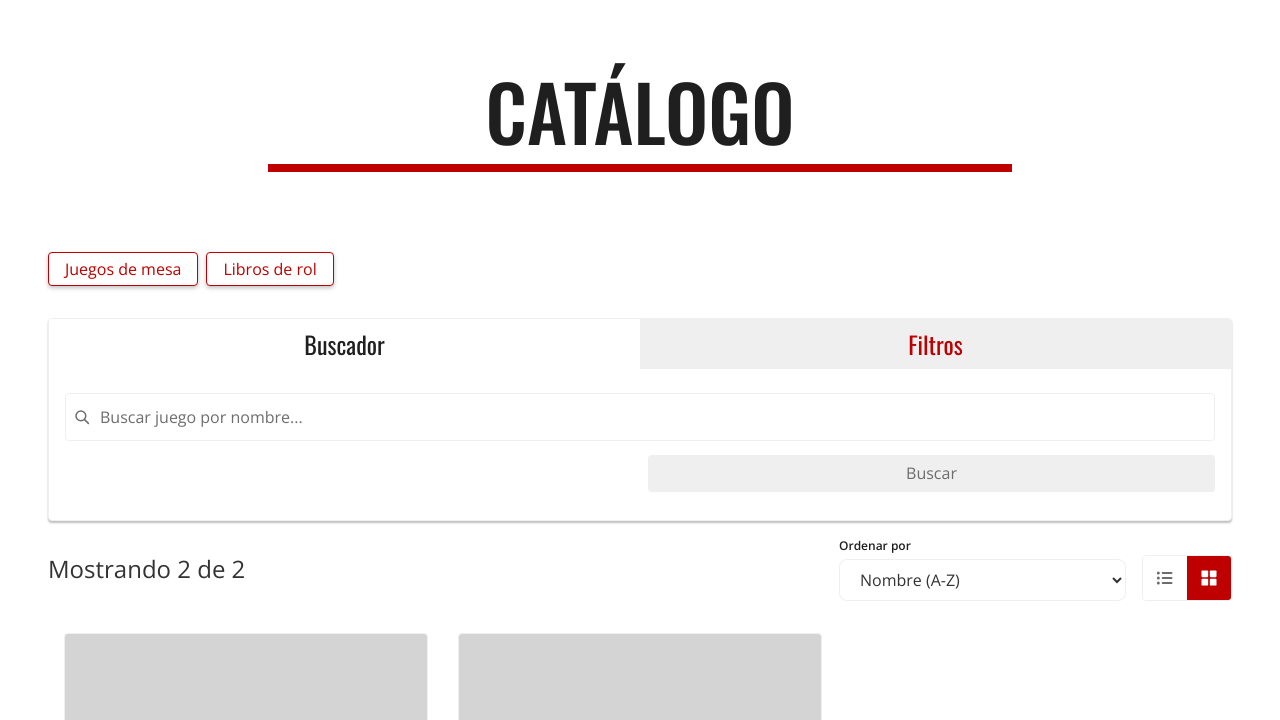
Test: CatalogPage player-range slider › filters the grid when the range excludes a game
The image size is (1280, 720).
Click the tab "Filtros" at (936, 344), box [640, 319, 1231, 369]
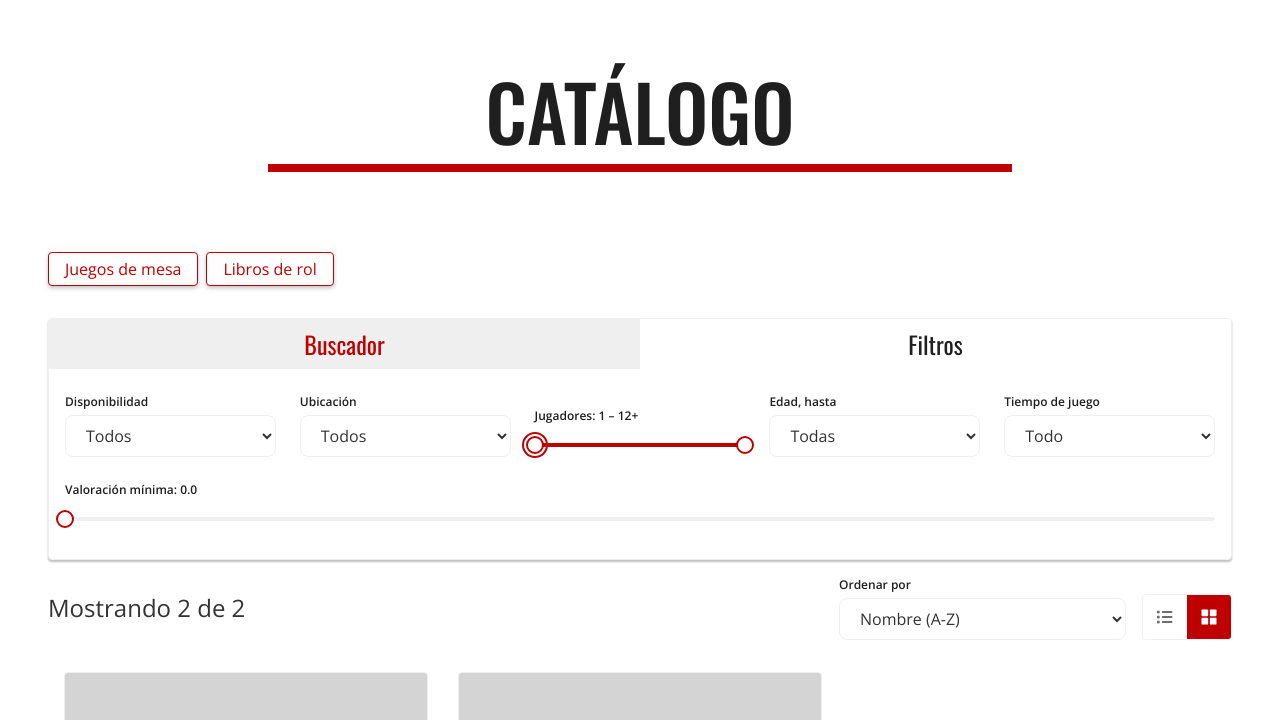
Press ArrowRight in the slider named "Jugadores mínimo", box [526, 436, 544, 454]
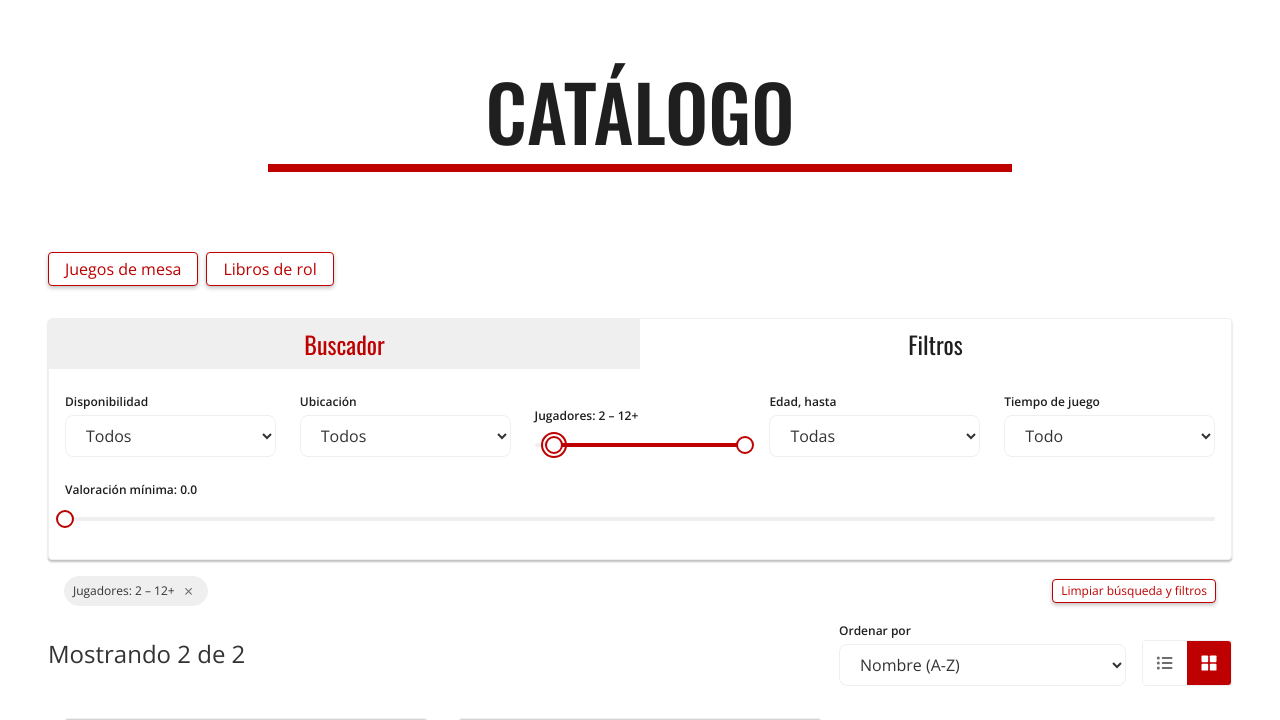
Press ArrowRight in the slider named "Jugadores mínimo", box [545, 436, 563, 454]
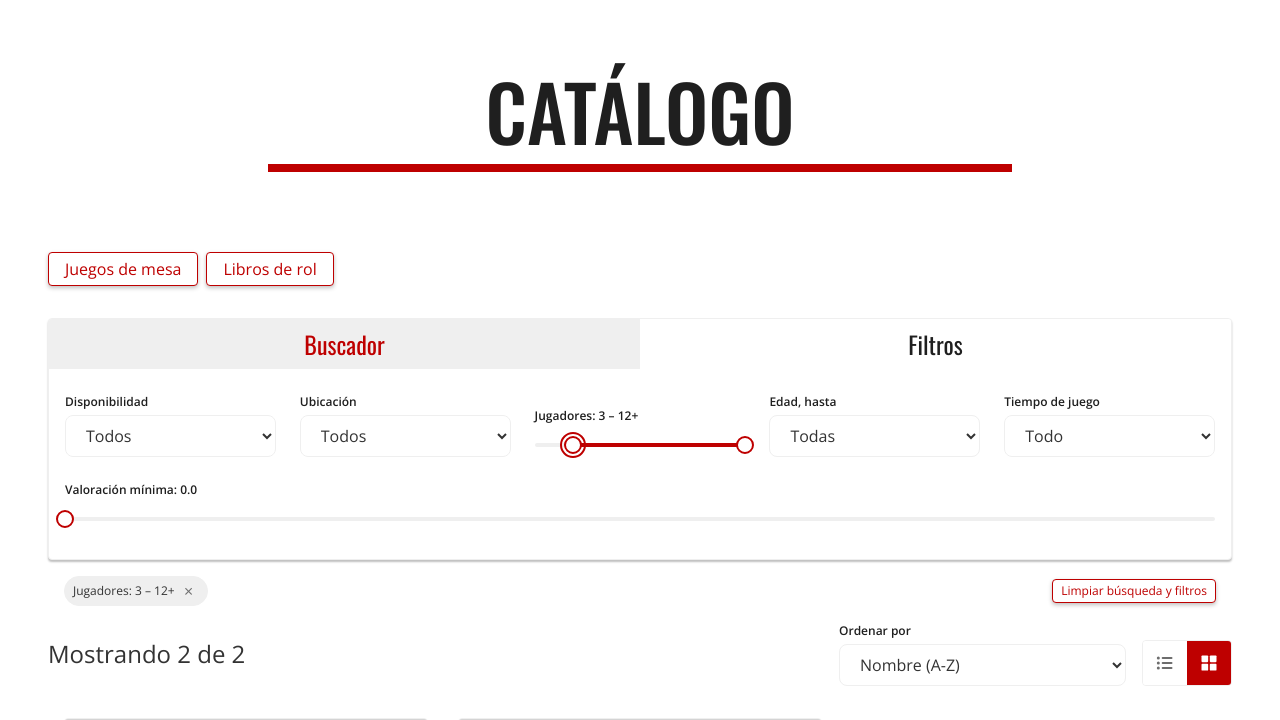
Press ArrowRight in the slider named "Jugadores mínimo", box [564, 436, 582, 454]
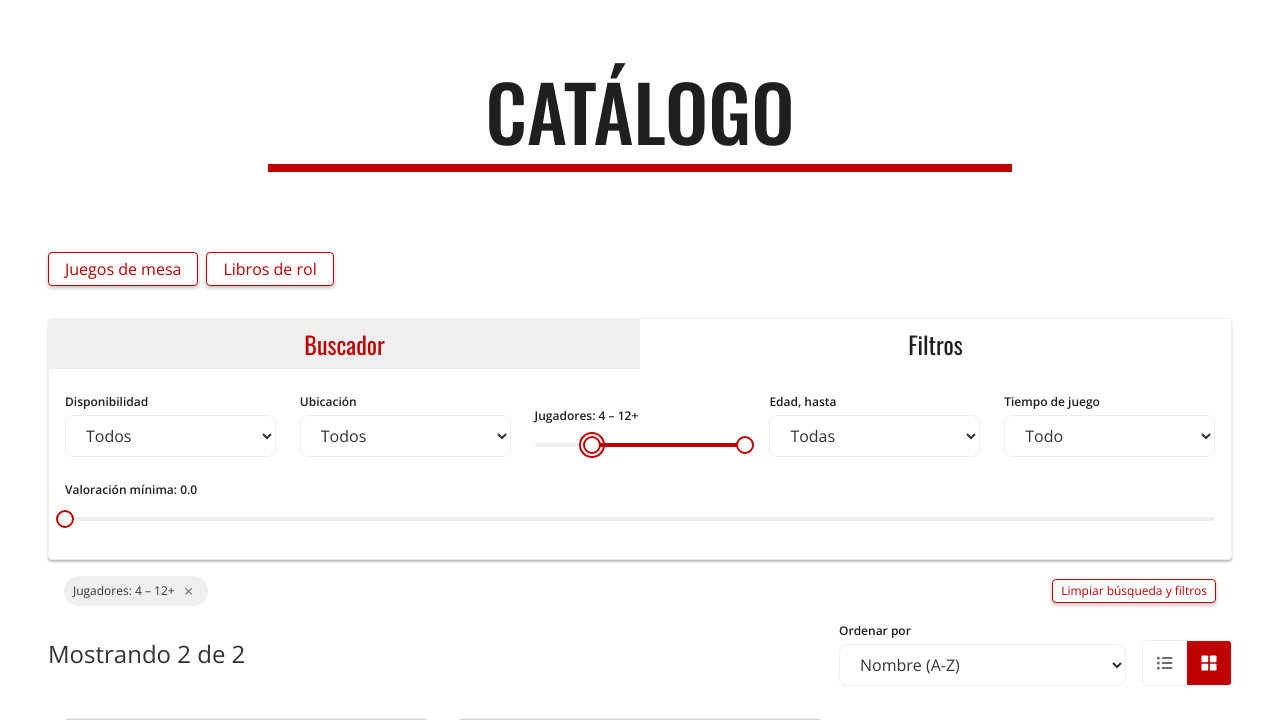
Press ArrowRight in the slider named "Jugadores mínimo", box [583, 436, 601, 454]
(page scrolled)
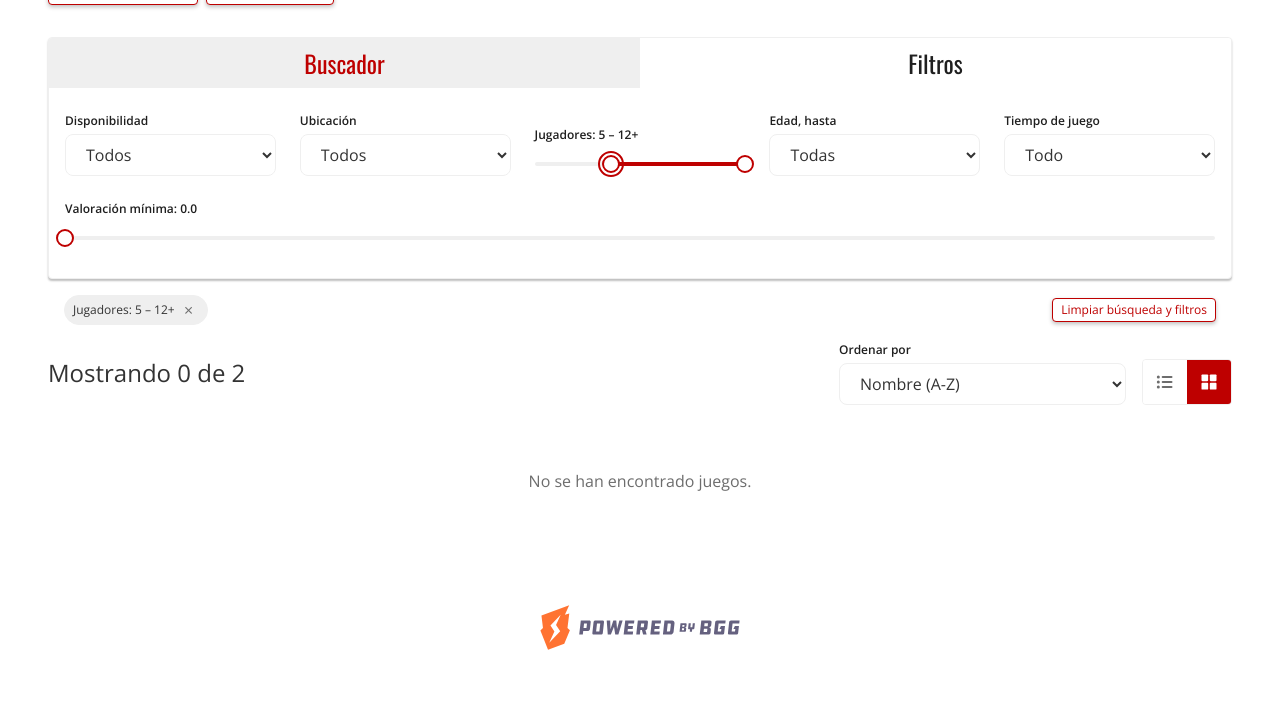
Result: the text "No se han encontrado juegos." is shown at [529, 470, 751, 492]
